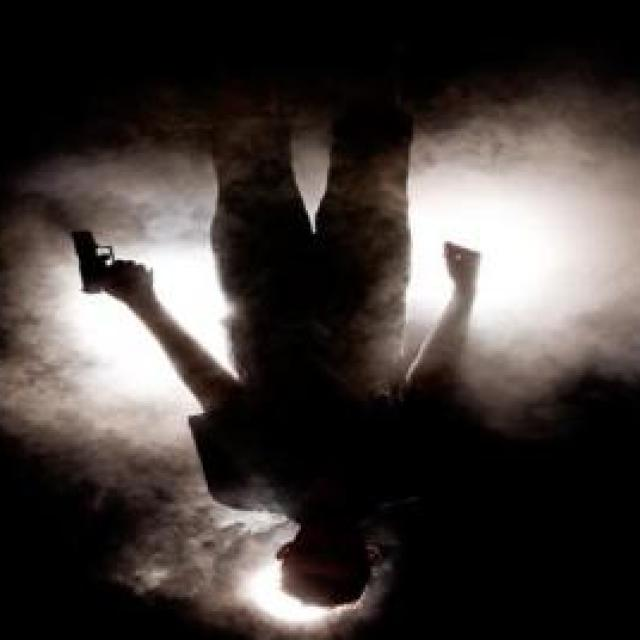pistol: (60, 226, 160, 298)
